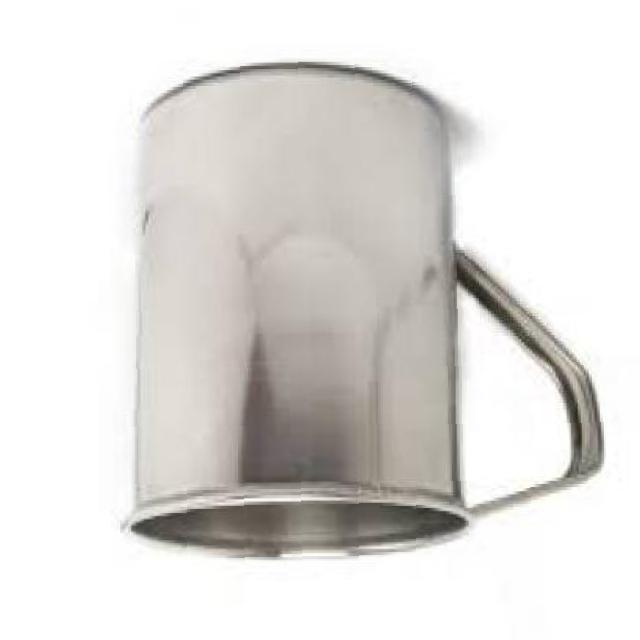cup: (106, 54, 608, 567)
